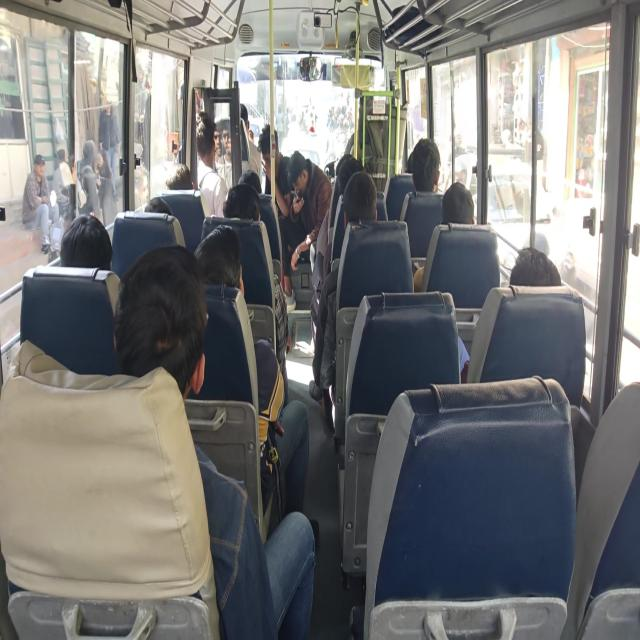person: (114, 234, 210, 404), (190, 224, 248, 300), (60, 206, 117, 279), (509, 237, 574, 291), (337, 171, 390, 231), (436, 176, 481, 233), (221, 184, 270, 226), (189, 108, 221, 172), (283, 141, 317, 197), (409, 136, 444, 188), (332, 147, 366, 191), (159, 159, 195, 196), (355, 84, 379, 131), (143, 188, 176, 222), (256, 119, 276, 171), (239, 171, 268, 193), (404, 144, 415, 174)
